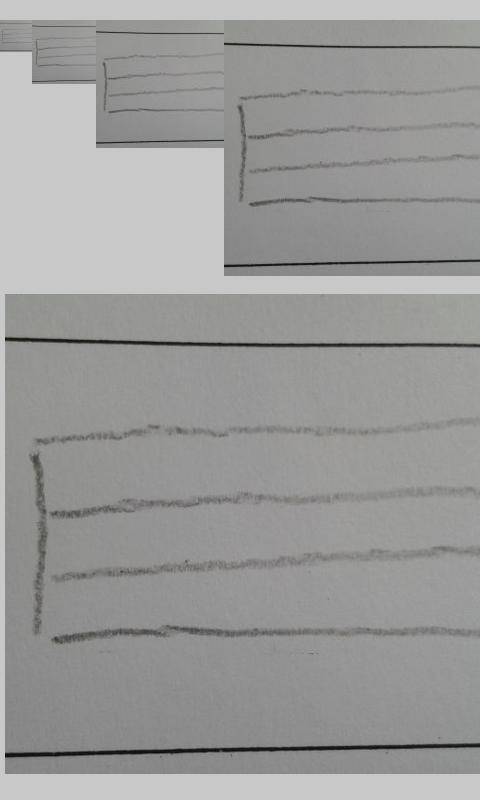list_view: (28, 422, 473, 645), (233, 87, 472, 209), (101, 52, 222, 114), (35, 35, 96, 68), (1, 27, 32, 45)
